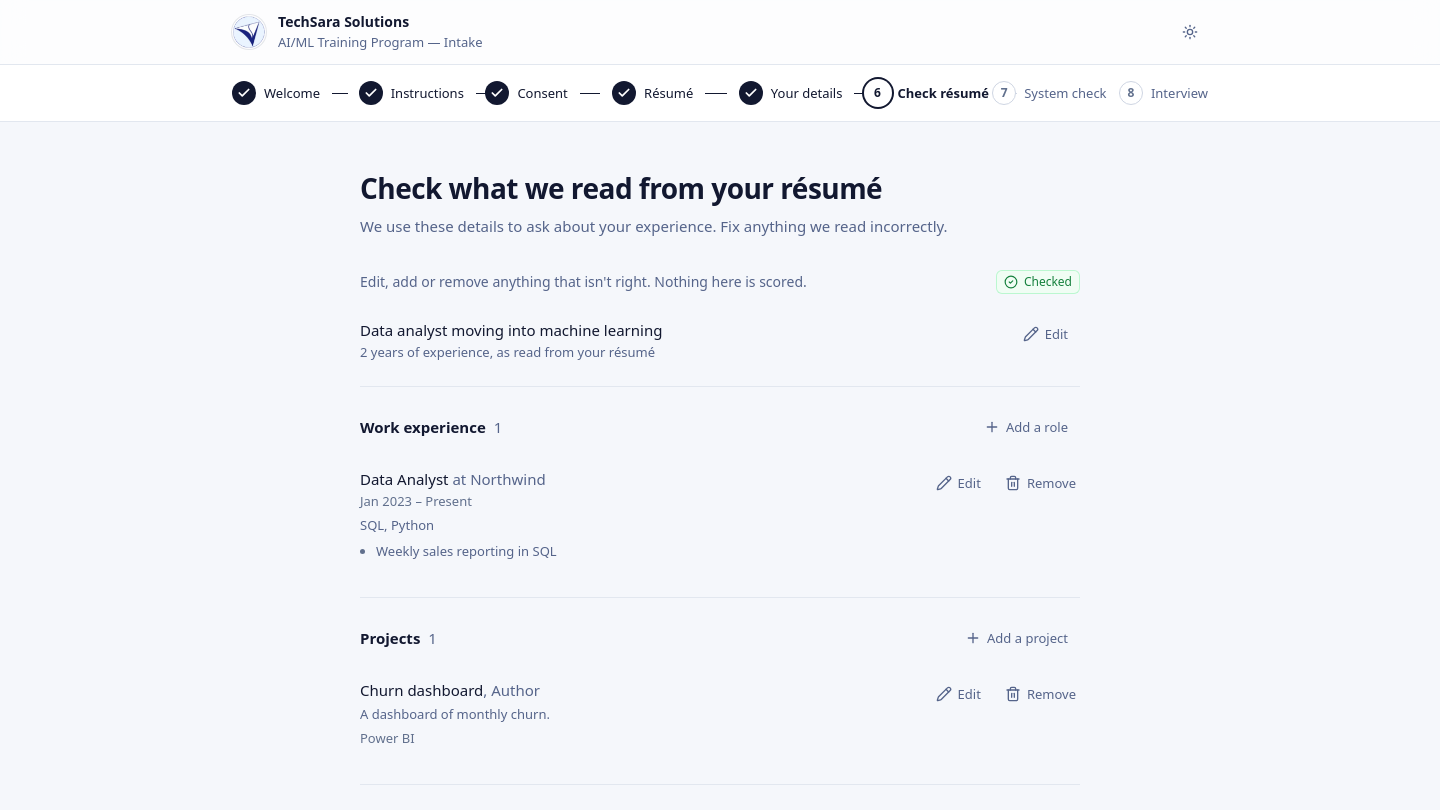
Scenario: IntakeResumeReviewPage › holds the confirm button while an item form is open
The width and height of the screenshot is (1440, 810).
Expected: the list item with test id "resume-review-item-r1" is shown, [360,455,1080,573]
Click the button with test id "resume-review-edit-r1" at (958, 483), box [924,467,993,499]
(page scrolled)
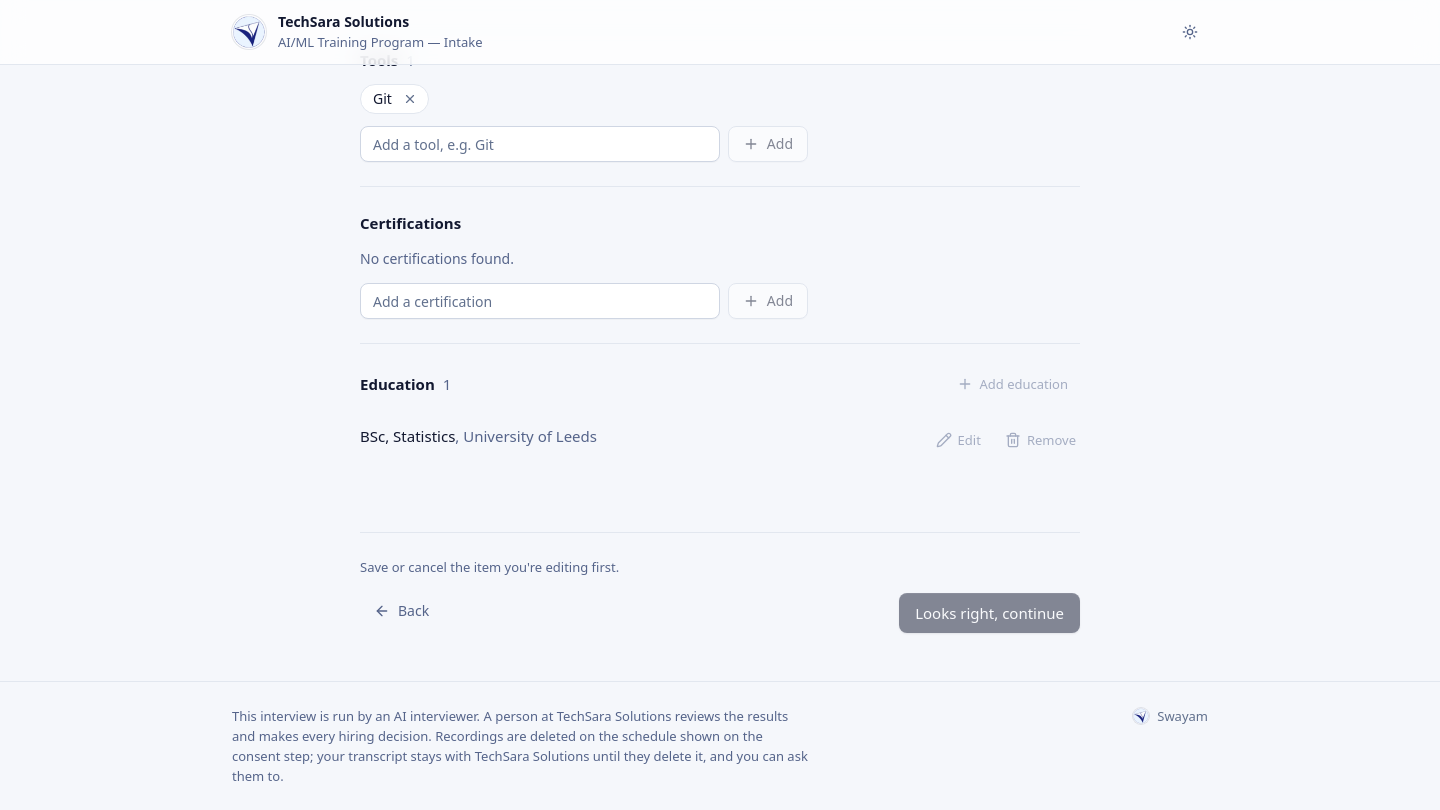
Now the button with test id "resume-review-confirm" is disabled, box [899,593,1080,633]
Now the text "Save or cancel the item you're editing first." is shown, box [360,558,619,576]
